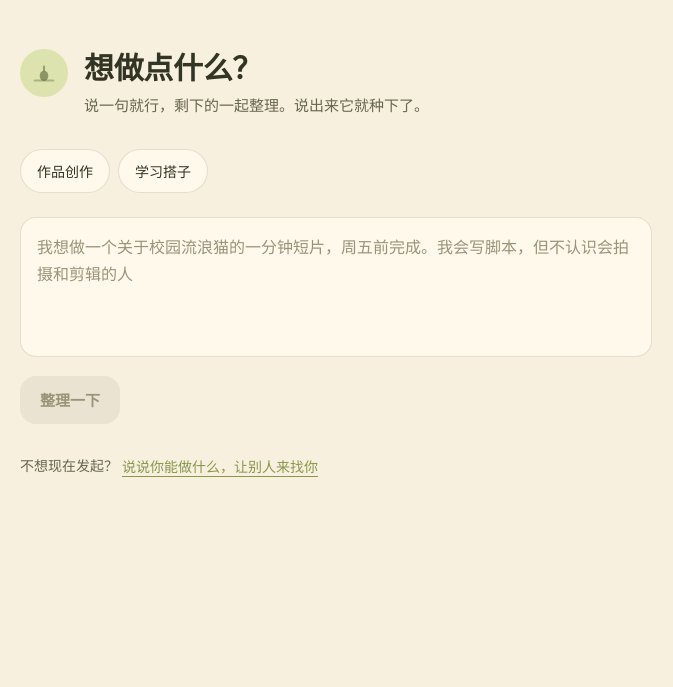
Scenario: 追问要能答 › 点一个选项就把它填进卡里，不用再打一遍字
Type "想找人一起做点事" into the text box named "你想做的事" at [336, 287], box [20,217,652,357]
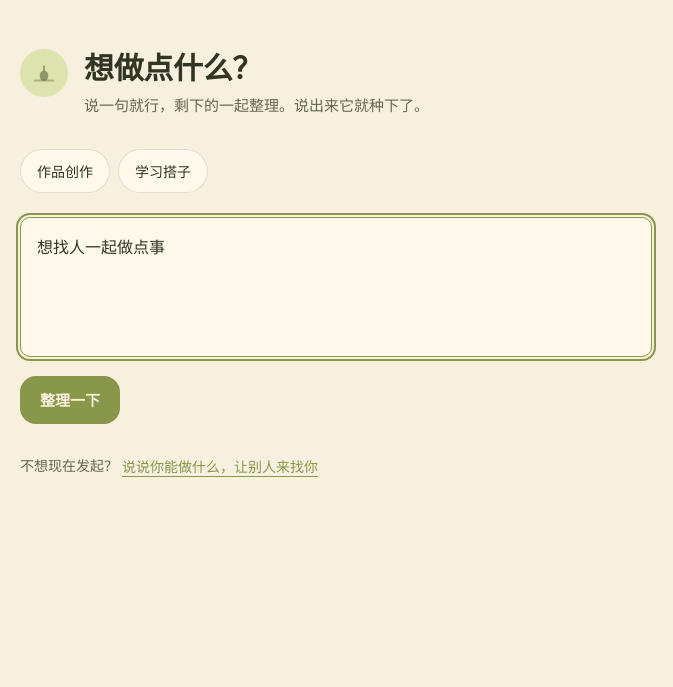
Click the button "整理一下" at [70, 400], box [20,376,120,424]
(page scrolled)
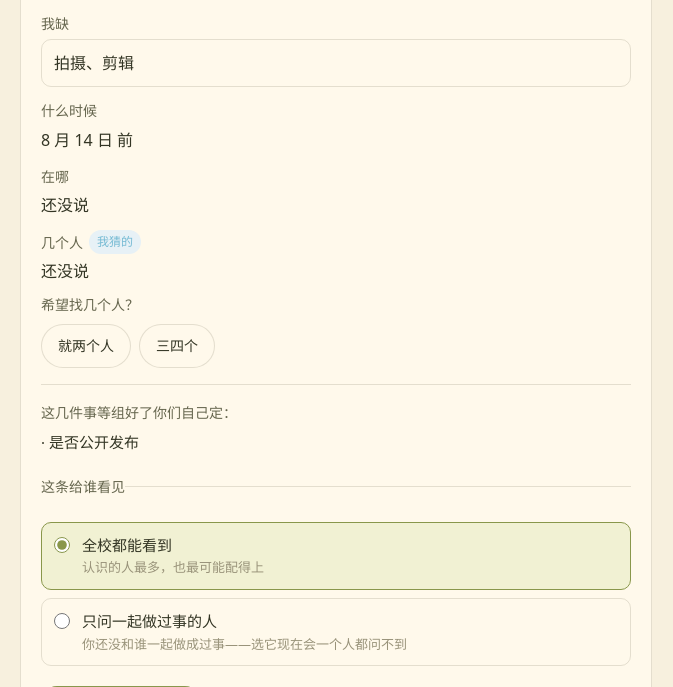
Click the button "三四个" at [177, 346], box [139,324,215,368]
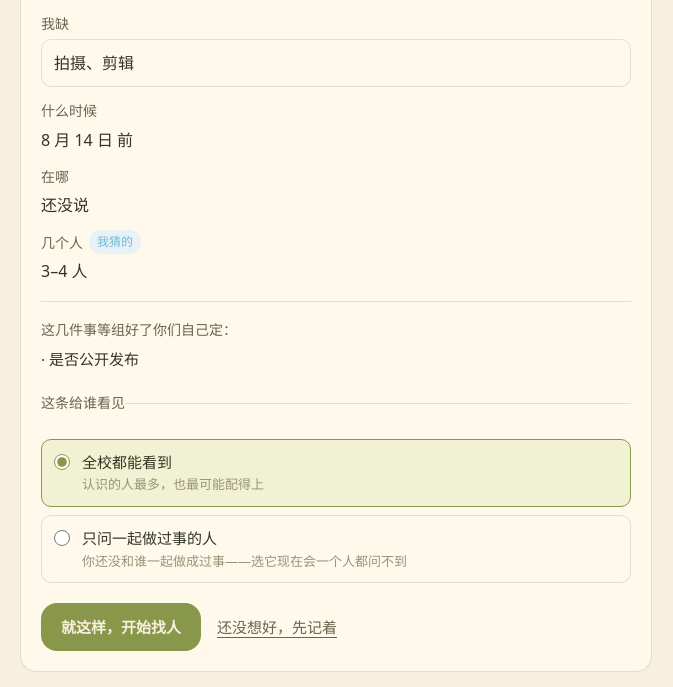
Expected: the text "3–4 人" is shown, [41,260,88,282]
Expected: the text "希望找几个人？" is gone
